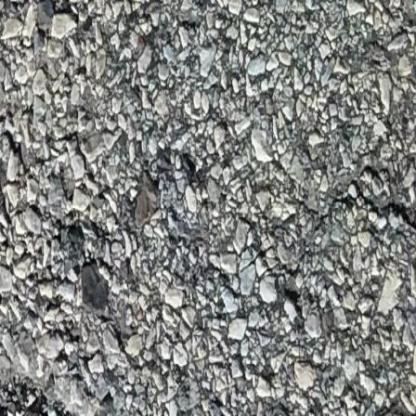Cracks: (311, 158, 416, 246), (0, 379, 88, 416)
